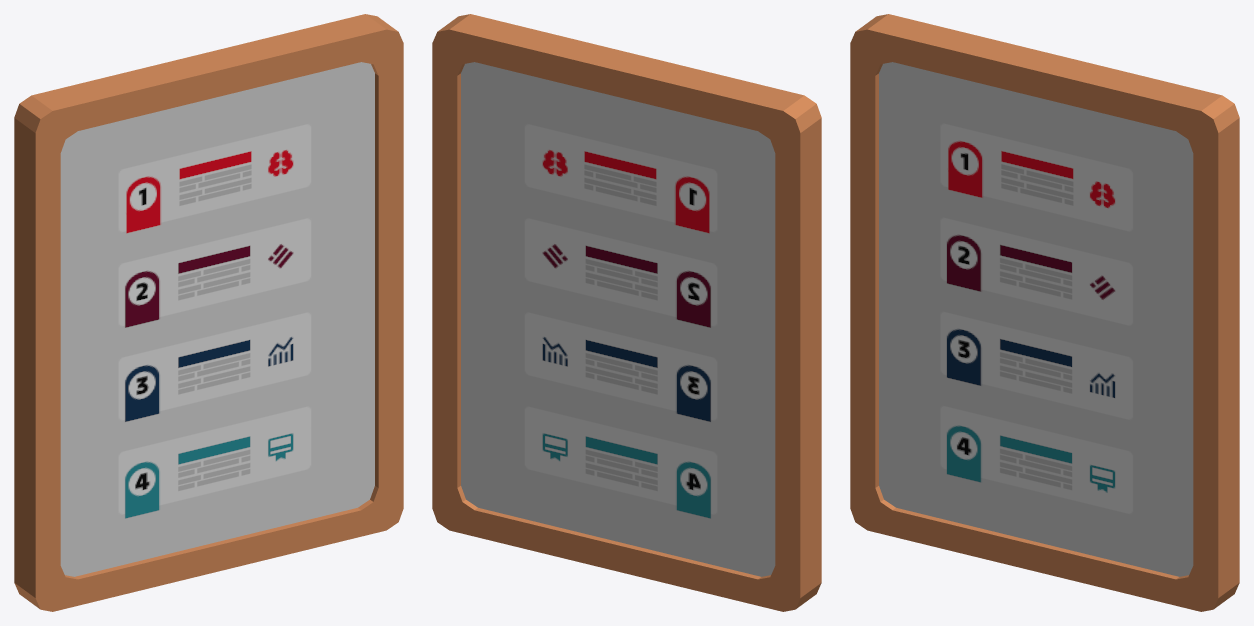
Rendered from Props_Poster_09.fbx.
3 renders of one model, left to right at view 1: azimuth 30°, elevation 25°; view 2: azimuth 150°, elevation 25°; view 3: azimuth 330°, elevation 25°, orthographic.
Visible parts, largest first — view 1: Props_Poster_09; view 2: Props_Poster_09; view 3: Props_Poster_09.
Boxes of the visible parts, left/top/right/bottom form: Props_Poster_09: left=14, top=14, right=403, bottom=611; Props_Poster_09: left=432, top=14, right=821, bottom=611; Props_Poster_09: left=850, top=14, right=1239, bottom=611.
Size of the model in its own units: 100 by 130 by 10.
